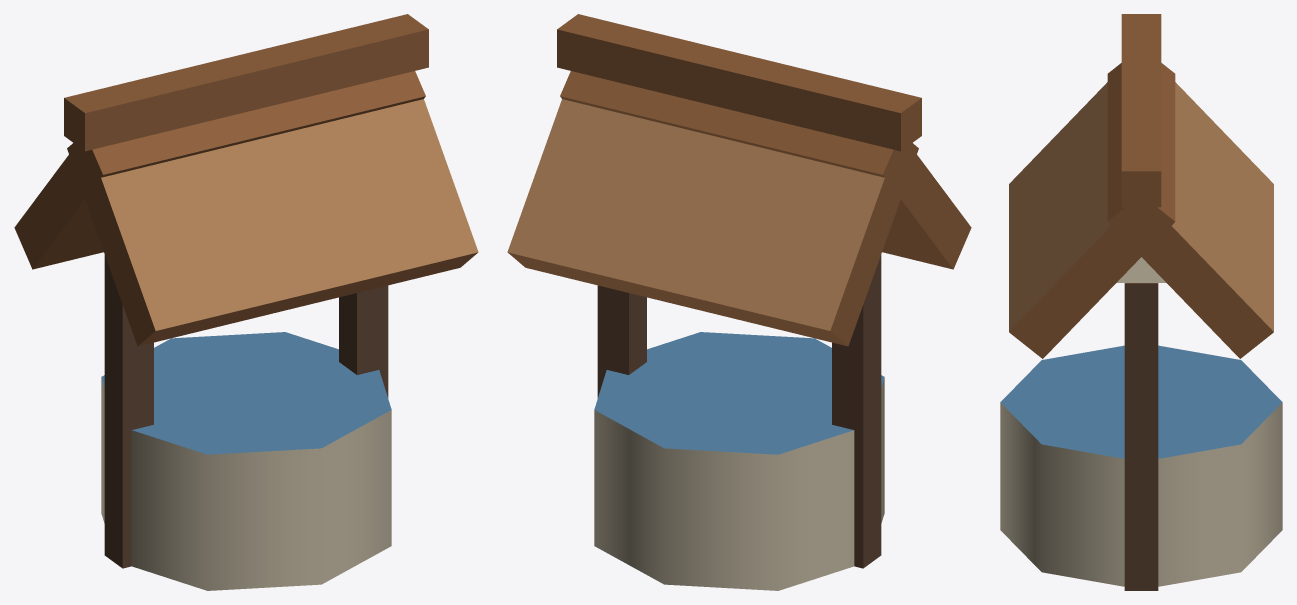
Rendered from well.fbx.
3 renders of one model, left to right at view 1: azimuth 30°, elevation 25°; view 2: azimuth 150°, elevation 25°; view 3: azimuth 270°, elevation 25°, orthographic. The views are drawn at different scales.
Parts seen in each view (by area): view 1: well; view 2: well; view 3: well.
Part boxes in pixels (bbox=[...]): well: bbox=[14, 14, 478, 590]; well: bbox=[507, 14, 971, 590]; well: bbox=[1000, 14, 1282, 590].
Size of the model in its own units: 0.132 by 0.171 by 0.1.
